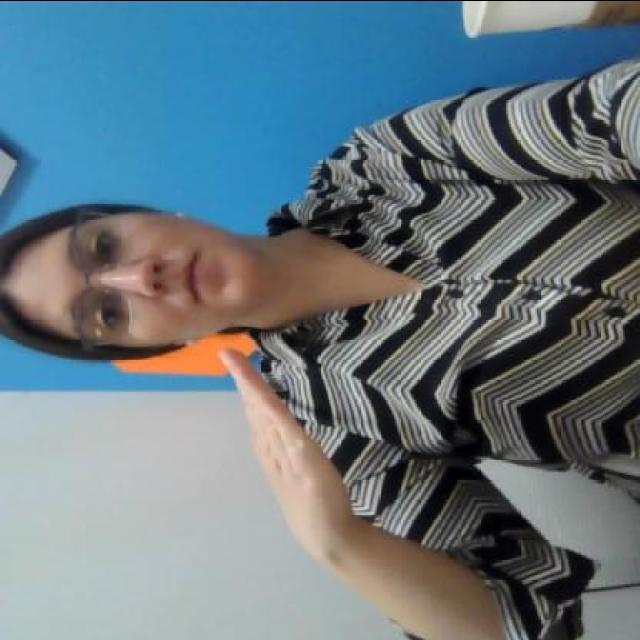Paper: (218, 337, 350, 551)
